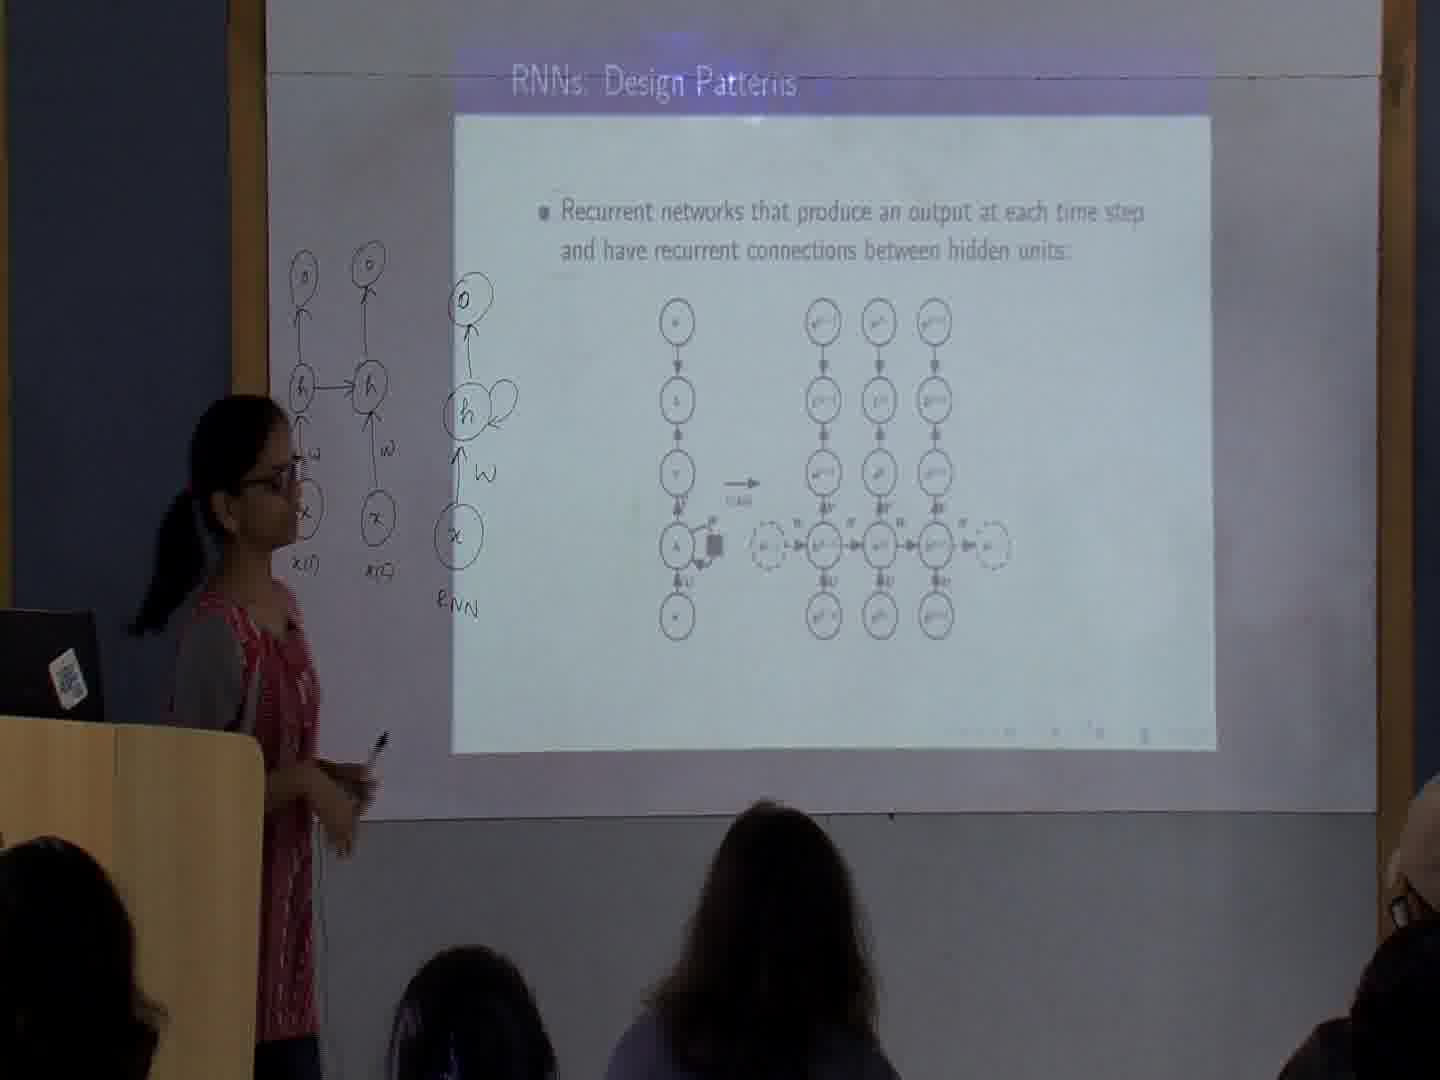fig: (658, 294, 722, 643)
